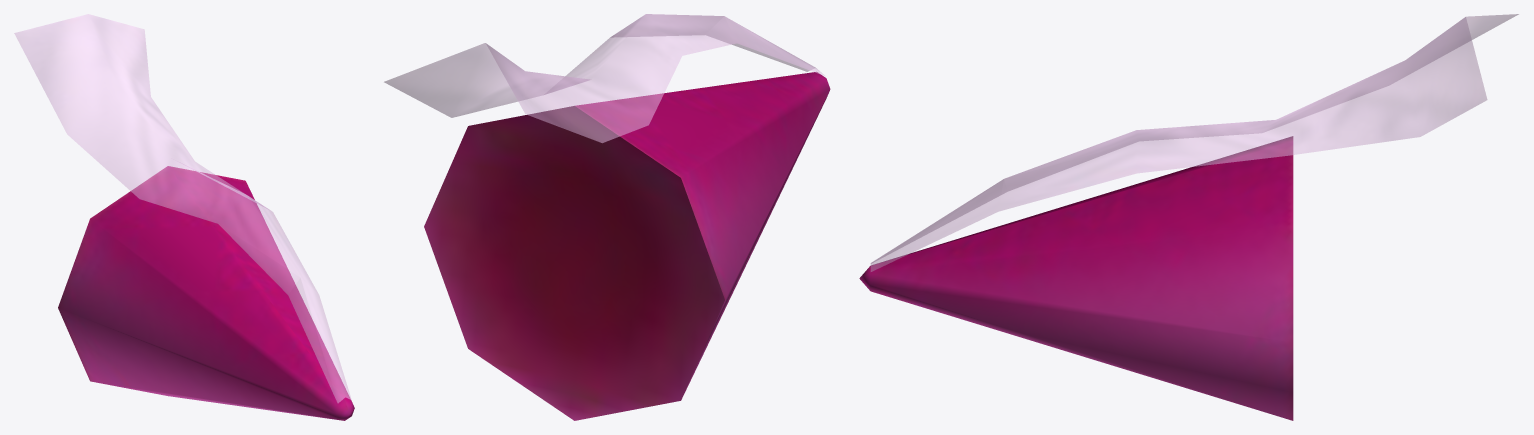
File: tt_m_chr_avt_acc_hat_princess.glb
3 renders of one model, left to right at view 1: azimuth 30°, elevation 25°; view 2: azimuth 150°, elevation 25°; view 3: azimuth 270°, elevation 25°, orthographic. The views are drawn at different scales.
Visible parts, largest first — view 1: princessHat; view 2: princessHat; view 3: princessHat.
Part boxes in pixels (x1,y1,x2,y2): princessHat: [14, 14, 354, 420]; princessHat: [384, 14, 830, 420]; princessHat: [859, 14, 1518, 420].
Size of the model in its own units: 2.85 by 4.09 by 6.2.
Materials: 2 (2 with a texture image).
